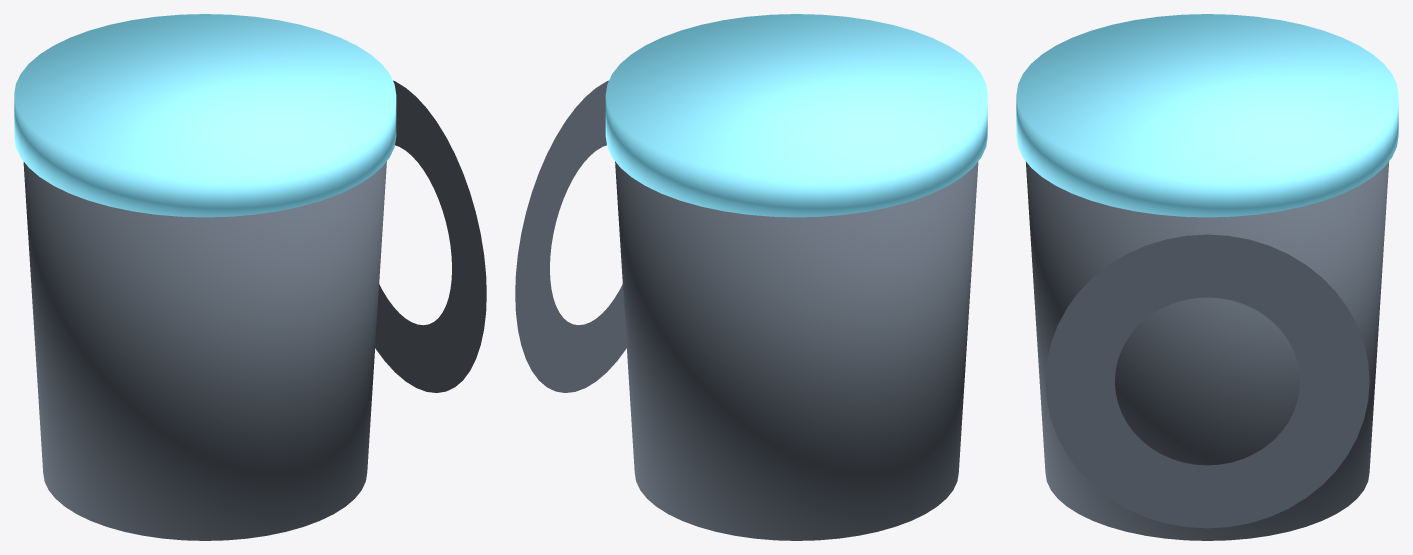
Rendered from hub-mug.glb.
3 views of the same model, side by side, from view 1: azimuth 30°, elevation 25°; view 2: azimuth 150°, elevation 25°; view 3: azimuth 270°, elevation 25° (orthographic).
Visible parts, largest first — view 1: Cup, Rim, Handle; view 2: Cup, Rim, Handle; view 3: Rim, Cup, Handle.
Part boxes in pixels (x1,y1,x2,y2): Cup: (23, 161, 386, 540); Rim: (14, 14, 396, 217); Handle: (375, 80, 486, 392); Cup: (615, 161, 978, 540); Rim: (605, 14, 987, 217); Handle: (515, 80, 626, 392); Rim: (1016, 14, 1398, 217); Cup: (1025, 161, 1389, 540); Handle: (1045, 234, 1369, 528).
Size of the model in its own units: 0.073 by 0.072 by 0.066.
